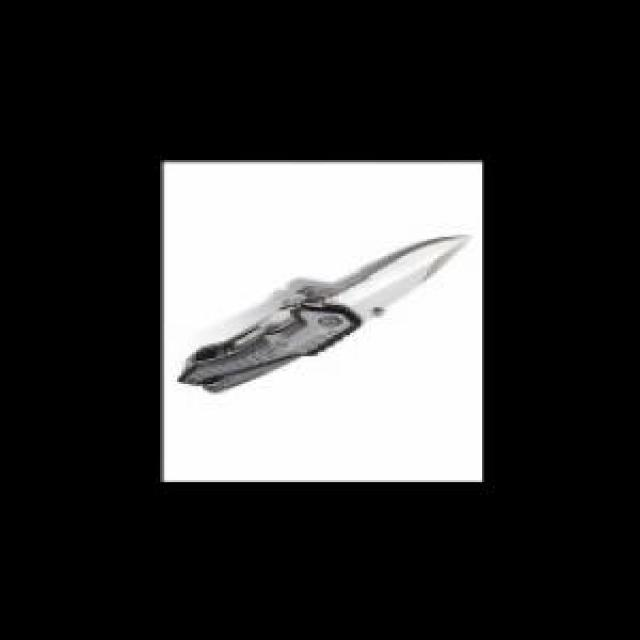knife: (169, 222, 480, 401)
